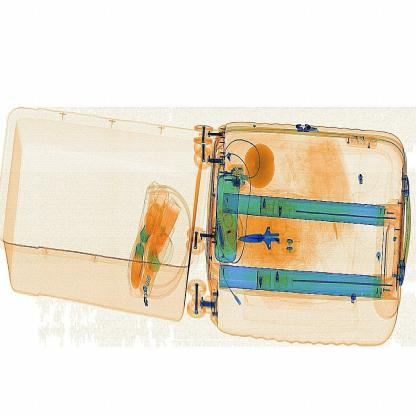gun: (236, 208, 295, 276)
